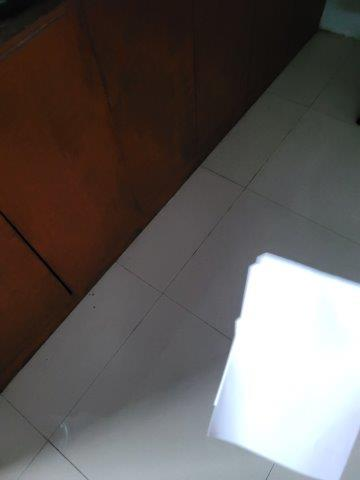kertas: (205, 254, 360, 480)
